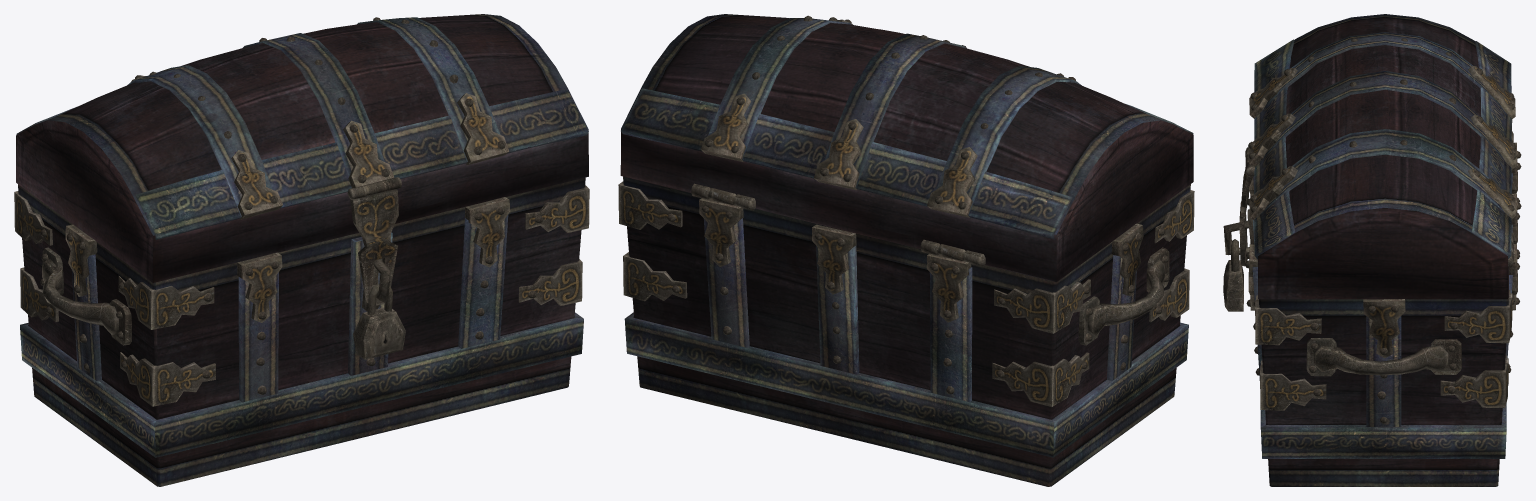
The model's file is Small_chest.FBX.
3 views of the same model, side by side, from view 1: azimuth 30°, elevation 25°; view 2: azimuth 150°, elevation 25°; view 3: azimuth 270°, elevation 25° (orthographic). The views are drawn at different scales.
Parts seen in each view (by area): view 1: small_chest_base, small_chest_cover; view 2: small_chest_base, small_chest_cover; view 3: small_chest_cover, small_chest_base.
Part boxes in pixels (x1,y1,x2,y2): small_chest_base: (14, 177, 589, 486); small_chest_cover: (16, 14, 588, 305); small_chest_base: (618, 176, 1194, 486); small_chest_cover: (620, 14, 1193, 282); small_chest_cover: (1239, 14, 1516, 299); small_chest_base: (1223, 119, 1521, 486).
Bounding box in the file's own units: 70.95 × 47.2 × 40.35.
